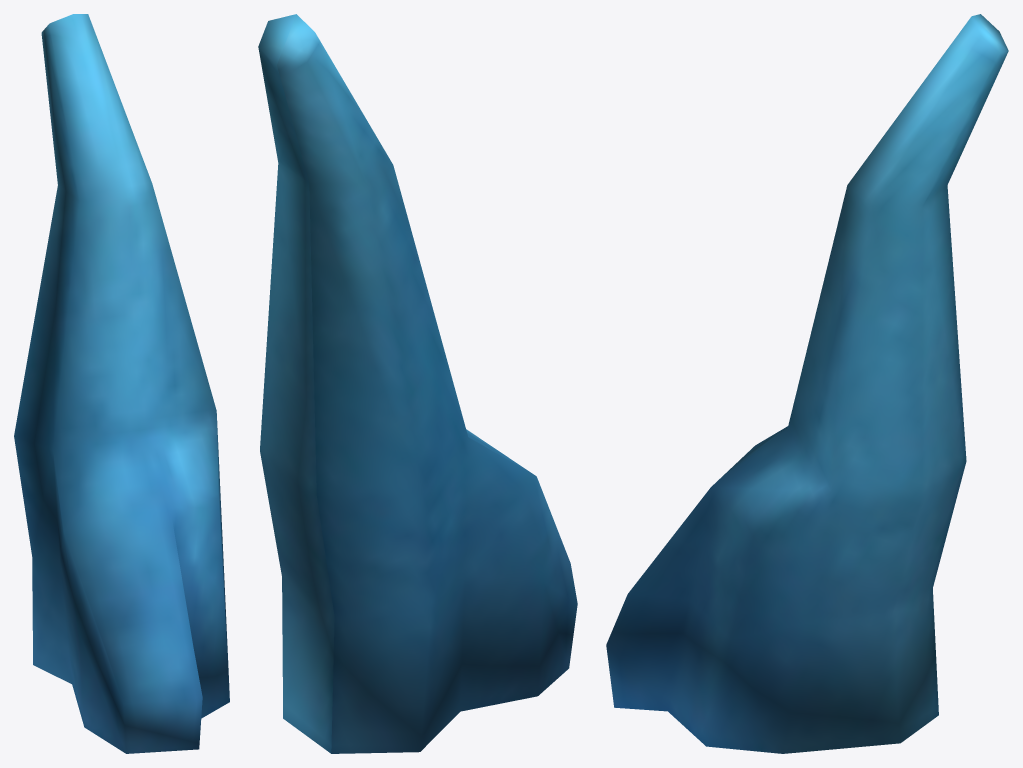
Rendered from Stage_BingYuan_BingLing11.FBX.
3 views of the same model, side by side, from view 1: azimuth 30°, elevation 25°; view 2: azimuth 150°, elevation 25°; view 3: azimuth 270°, elevation 25° (orthographic). The views are drawn at different scales.
Parts seen in each view (by area): view 1: Stage_BingYuan_BingLing11; view 2: Stage_BingYuan_BingLing11; view 3: Stage_BingYuan_BingLing11.
Boxes of the visible parts, x1,y1,x2,y2 form: Stage_BingYuan_BingLing11: (14, 14, 229, 753); Stage_BingYuan_BingLing11: (258, 14, 577, 753); Stage_BingYuan_BingLing11: (606, 14, 1008, 753).
Bounding box in the file's own units: 31.92 × 101 × 51.89.
